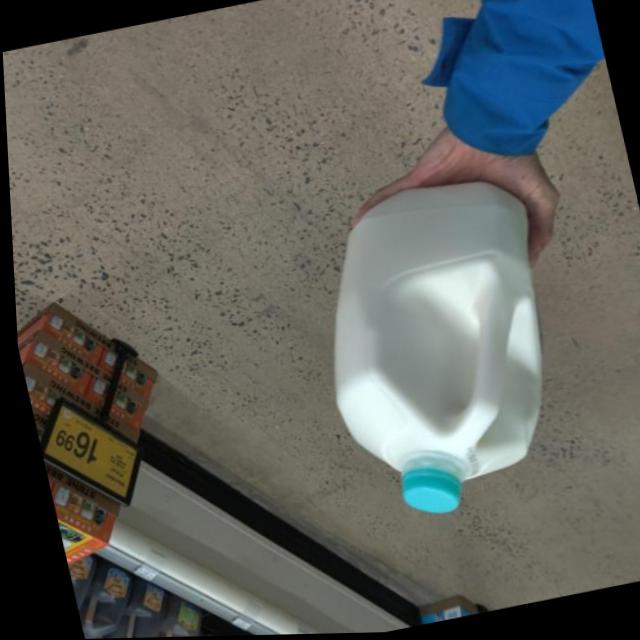Milk: (286, 169, 586, 531)
